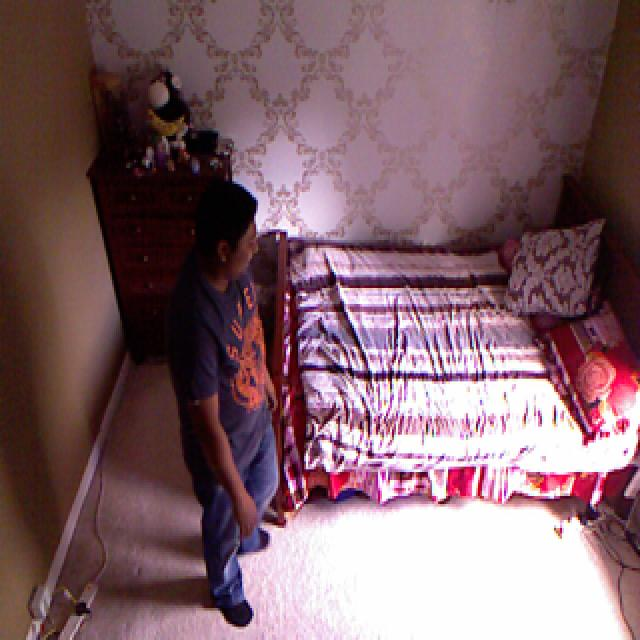standing: (164, 180, 281, 633)
